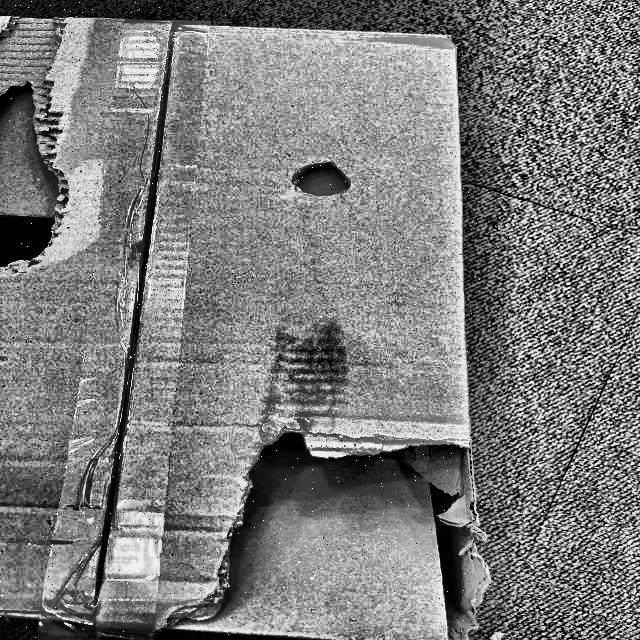box: (0, 0, 500, 640)
hole: (178, 406, 501, 629), (0, 213, 78, 272), (283, 156, 362, 204)
